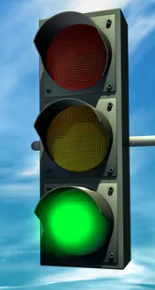green: (31, 9, 155, 281)
